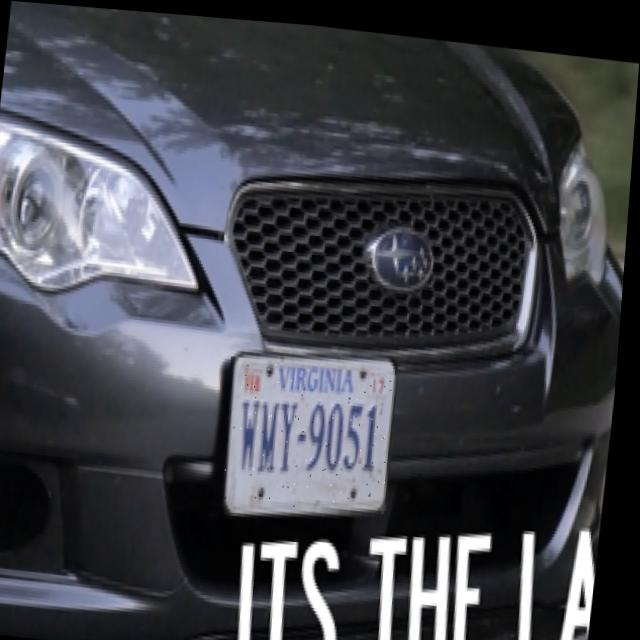license_plate: (222, 351, 402, 510)
